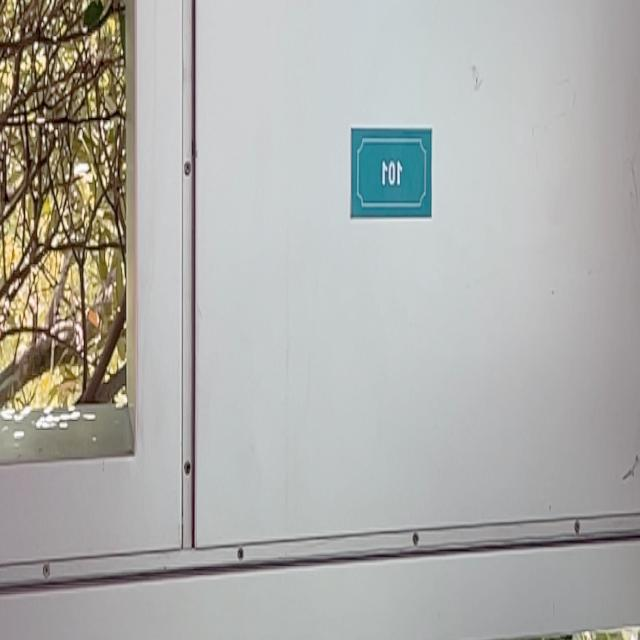Card: (345, 101, 442, 227)
